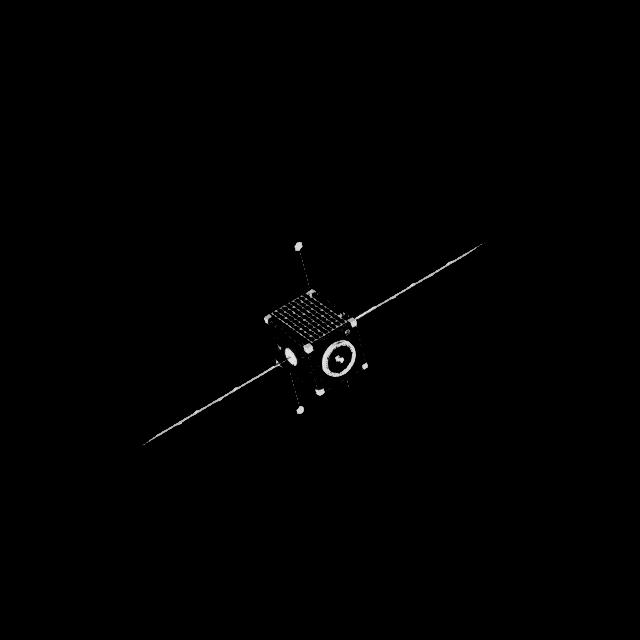medium_debris: (152, 241, 486, 443)
